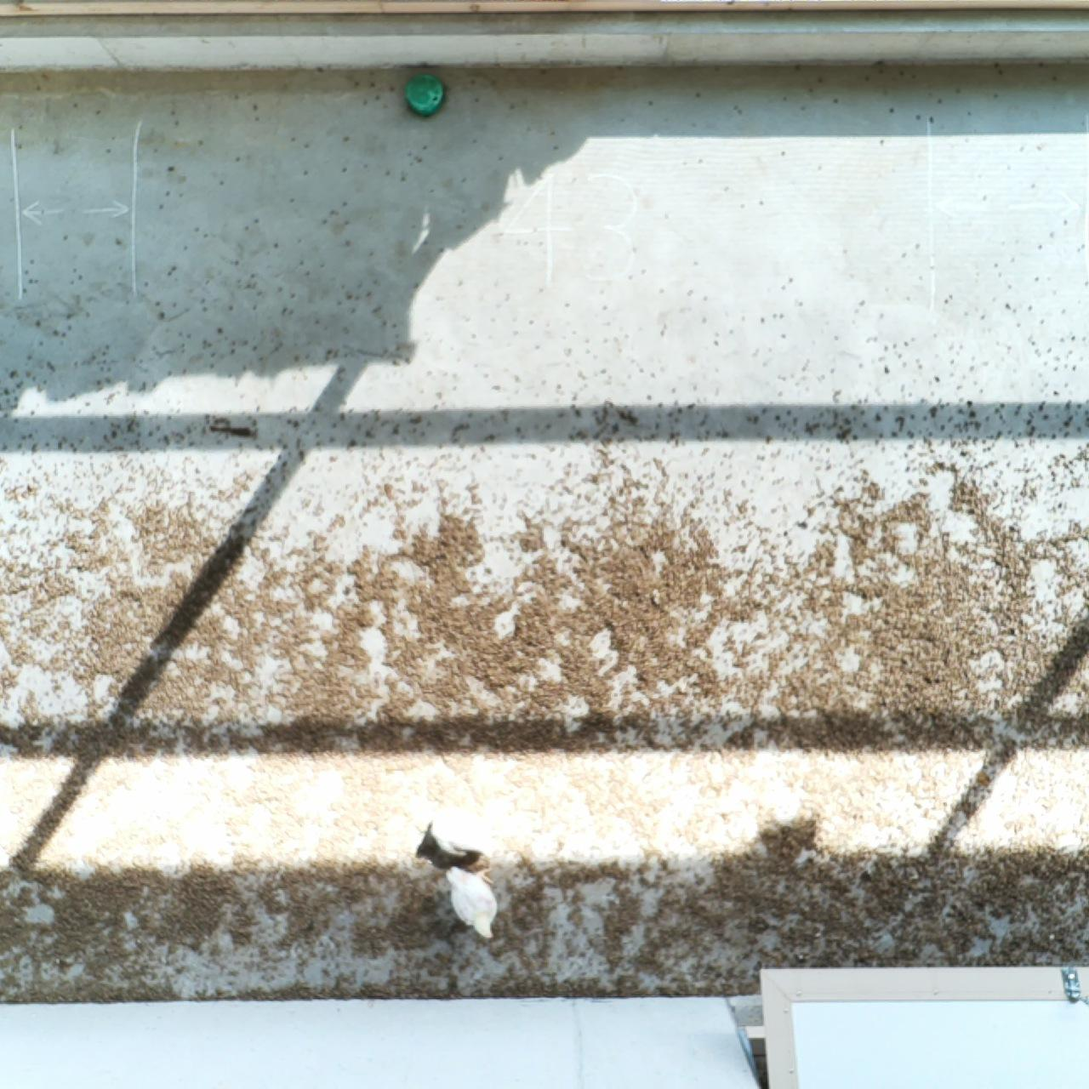chicken: (442, 864, 500, 945), (426, 802, 501, 863)
